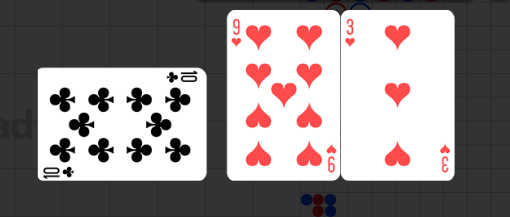10C: (42, 163, 77, 179)
3H: (438, 142, 451, 173)
9H: (231, 18, 243, 49)
